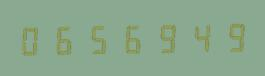five: (83, 20, 115, 56)
four: (182, 19, 214, 54)
nine: (149, 19, 181, 55), (215, 18, 247, 53)
six: (50, 21, 82, 56), (116, 20, 148, 55)
zero: (17, 22, 49, 57)
